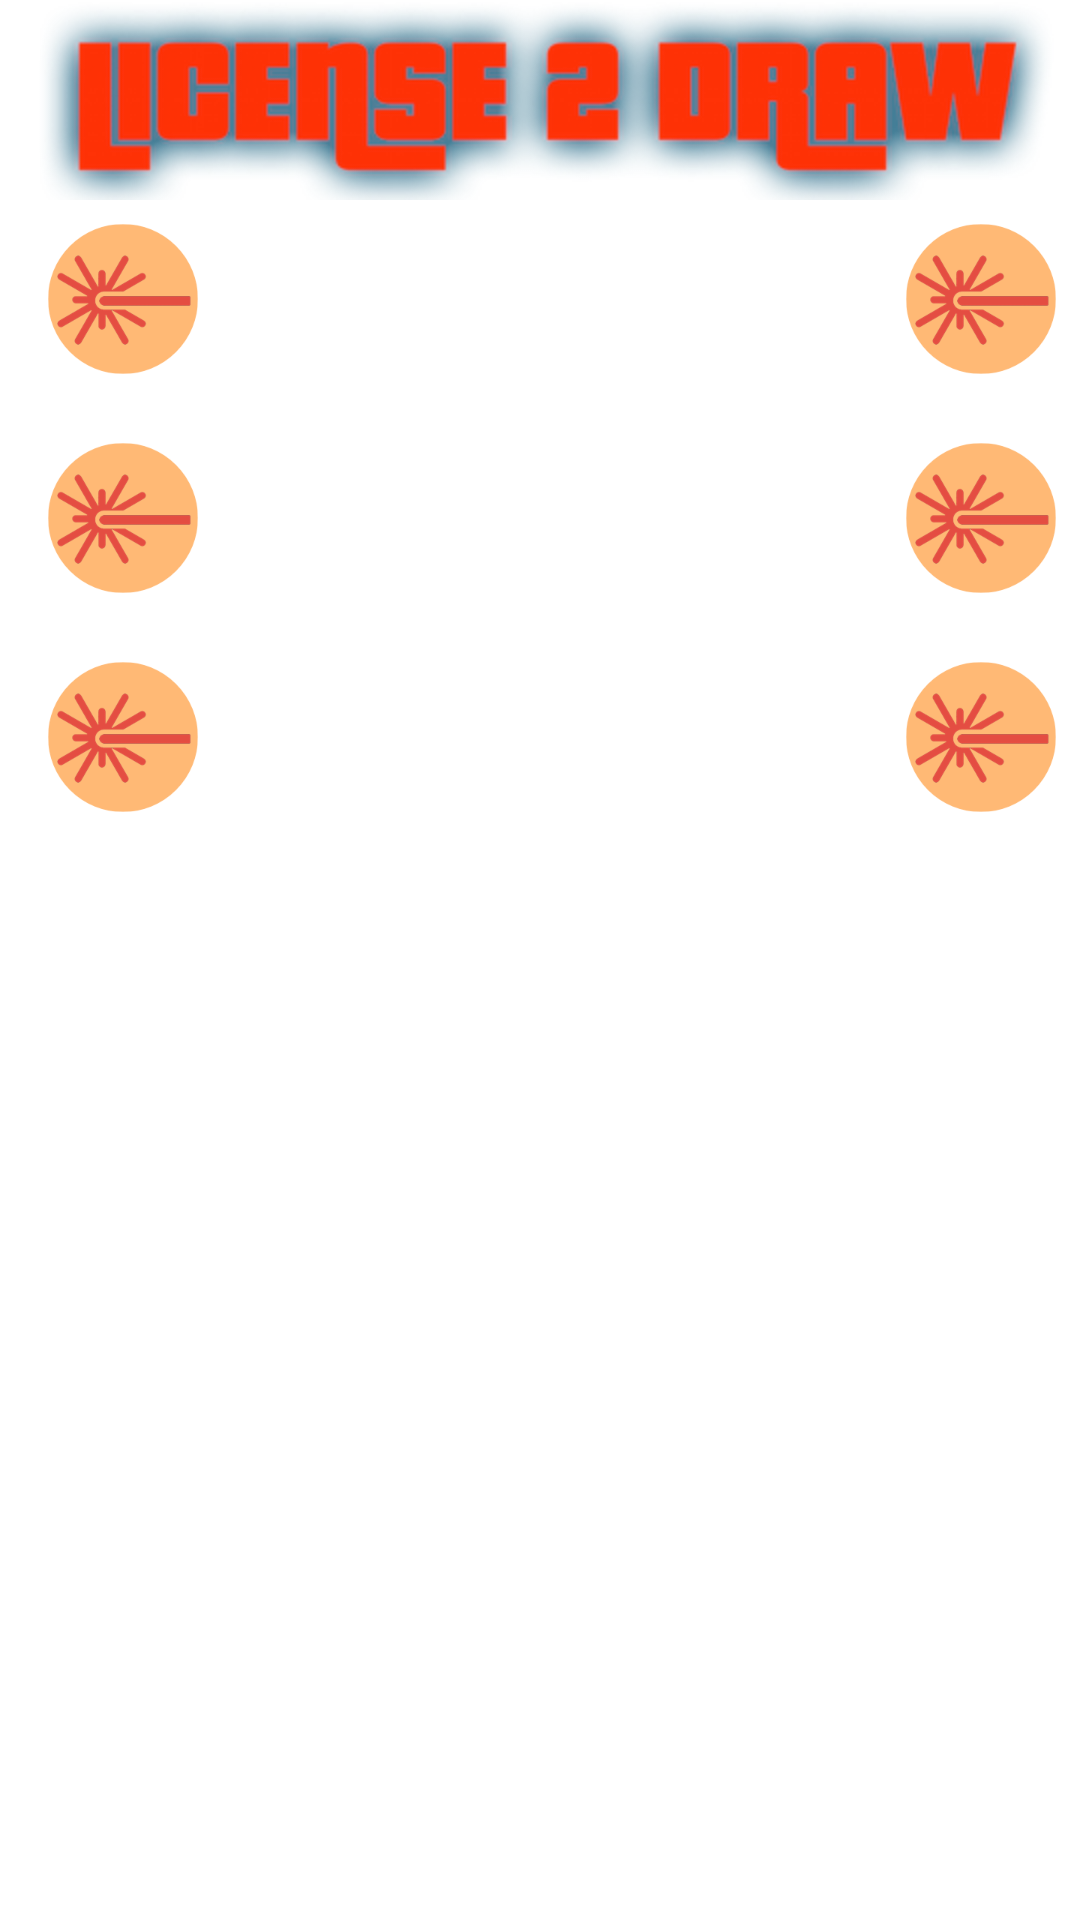

Icon click points for this 1080*1920 phone screenshot, format (x=x, y=y):
laser beam: (x=123, y=299), (x=981, y=299), (x=123, y=518), (x=981, y=518), (x=123, y=737), (x=981, y=737)
